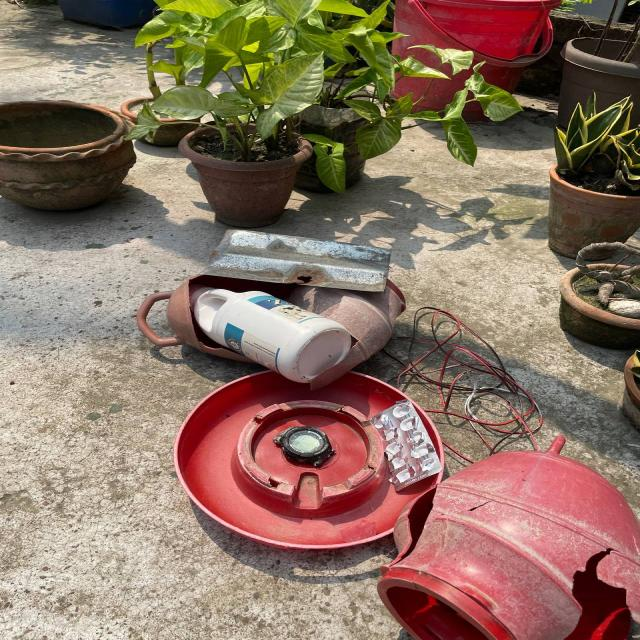Cable: (412, 304, 540, 436)
E-waste: (270, 418, 340, 458)
Medical Waste: (365, 405, 460, 489)
Metal: (202, 210, 408, 299)
Plastics: (190, 475, 640, 640), (90, 280, 393, 374)
